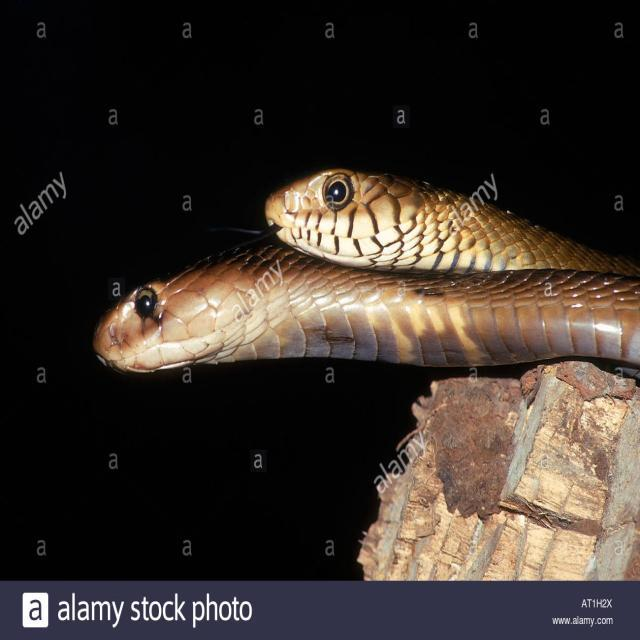Snake: (91, 166, 638, 376)
